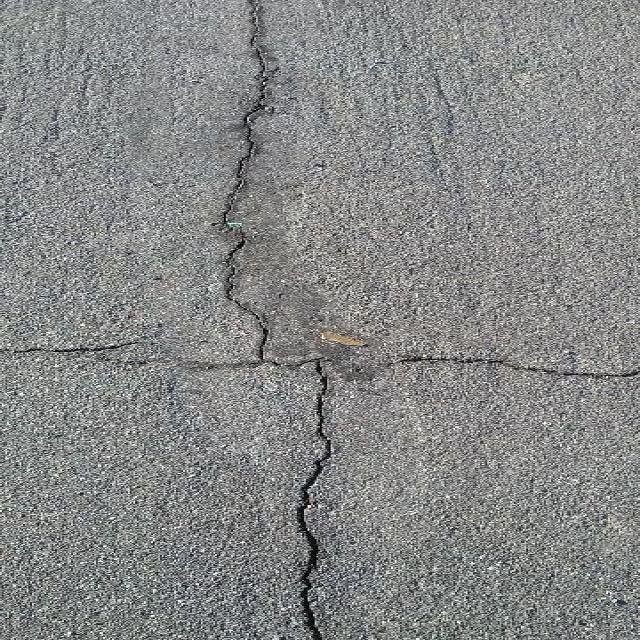moderate crack: (216, 7, 306, 629), (0, 1, 144, 348), (10, 346, 635, 378), (293, 360, 336, 638), (220, 217, 253, 349), (5, 340, 148, 356), (39, 74, 69, 143), (5, 202, 34, 223), (610, 594, 640, 614), (311, 159, 326, 170)
severe crack: (300, 352, 640, 640), (232, 361, 313, 405), (218, 146, 254, 238), (238, 67, 274, 140), (315, 306, 379, 338), (313, 363, 331, 412), (283, 353, 326, 368), (258, 321, 270, 358), (298, 486, 315, 511), (256, 354, 287, 367), (273, 288, 284, 303), (194, 335, 208, 346), (210, 220, 222, 227)
